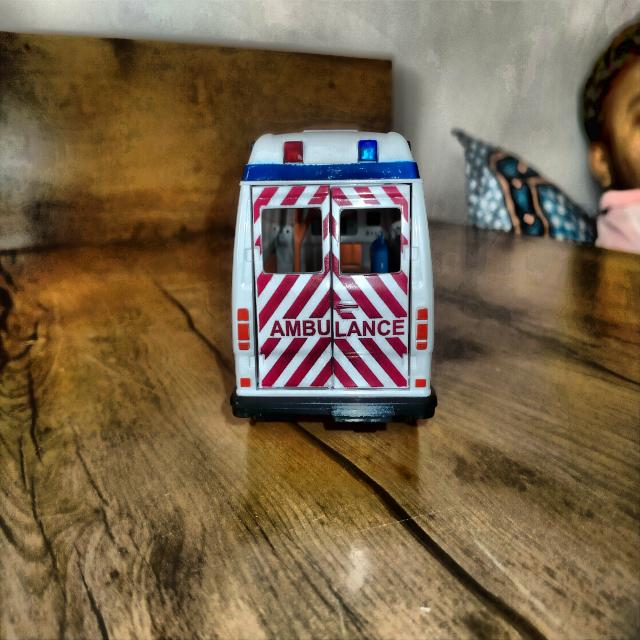Ambulance: (230, 130, 437, 431)
